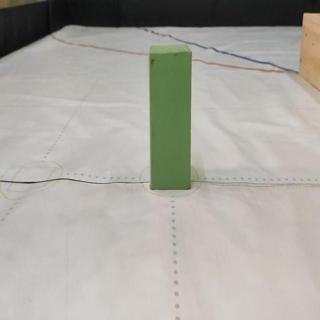greenbox: (148, 45, 192, 190)
